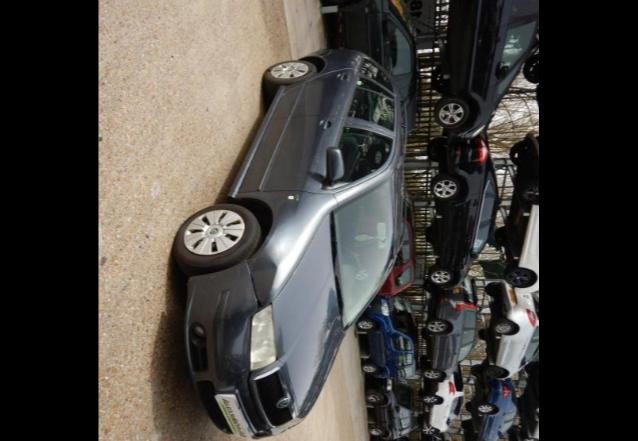Broken part: (246, 260, 264, 310)
Dent: (251, 258, 278, 306)
